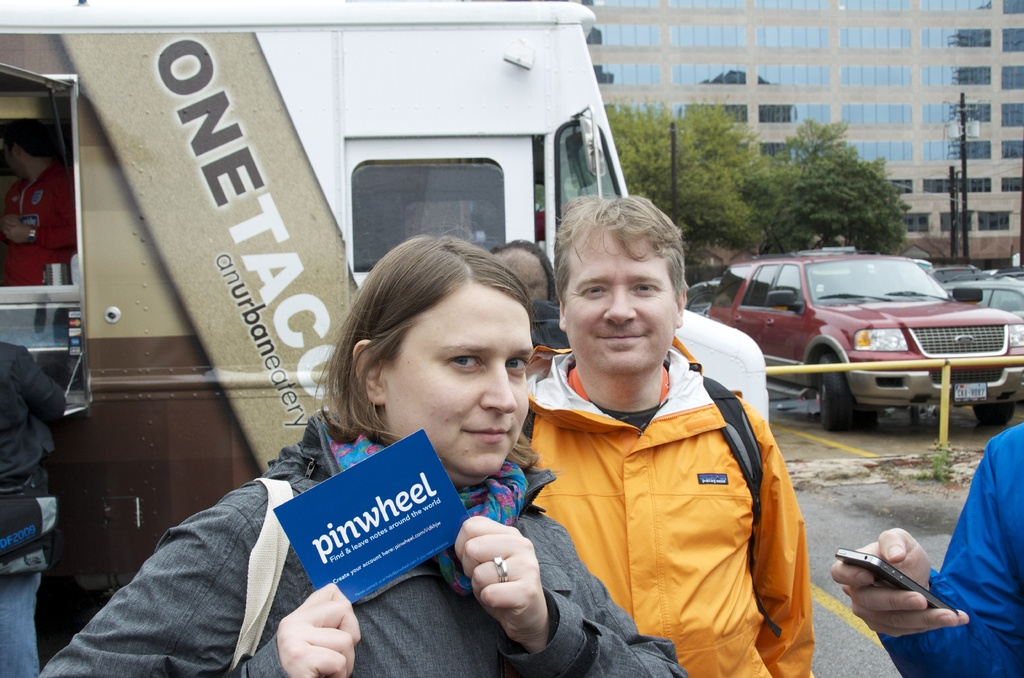Car: (686, 256, 1006, 438)
